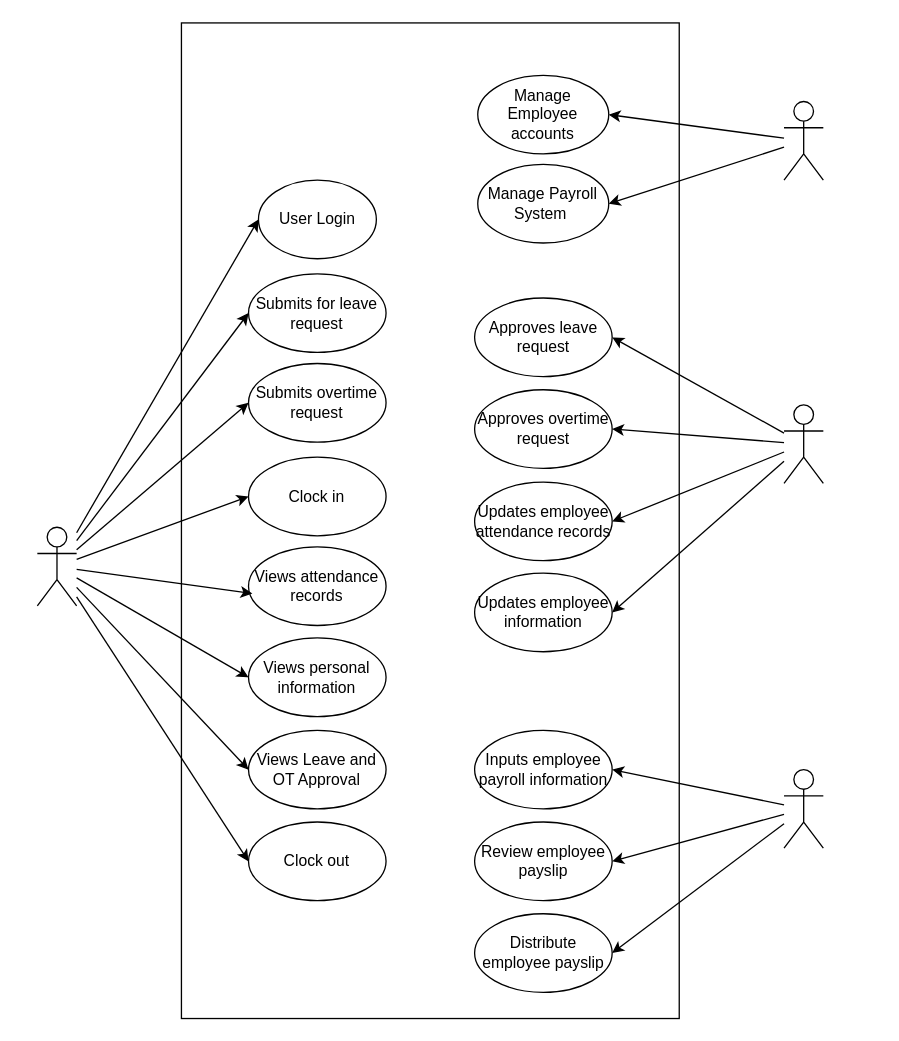
Some shapes in this 899 by 1041 pixel diagram are drawn without their labels. Each missing label, with the centre of its shape:
Employee: [56,566]
HR Manager: [803,443]
IT Personnel: [803,140]
Payroll Administrator: [803,808]
